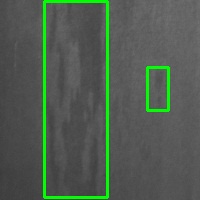inclusion: (44, 1, 107, 197), (147, 67, 168, 110)
